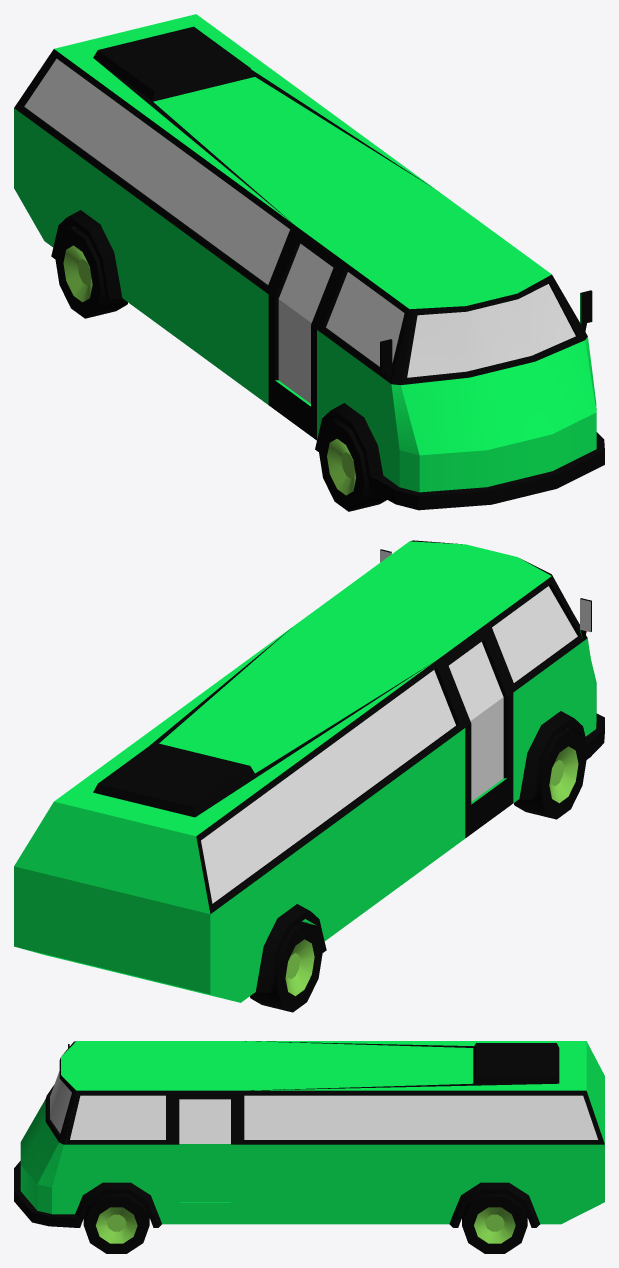
The model's file is green bus.fbx.
3 views of the same model, one above another, from view 1: azimuth 30°, elevation 25°; view 2: azimuth 150°, elevation 25°; view 3: azimuth 270°, elevation 25° (orthographic). The views are drawn at different scales.
Parts seen in each view (by area): view 1: Object018, Object021, Object022; view 2: Object018, Object022, Object021; view 3: Object018, Object020, Object019.
Part boxes in pixels (<box>): Object018: <box>14,14,604,510</box>; Object021: <box>55,227,127,318</box>; Object022: <box>318,421,386,511</box>; Object018: <box>14,540,604,1002</box>; Object022: <box>514,728,586,819</box>; Object021: <box>250,921,322,1012</box>; Object018: <box>14,1041,604,1227</box>; Object020: <box>83,1194,149,1253</box>; Object019: <box>462,1194,527,1253</box>.
Bounding box in the file's own units: 124 × 115 × 398.
